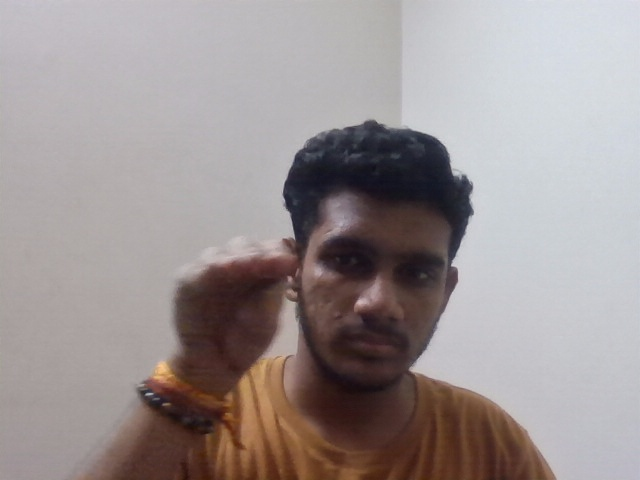no: (132, 231, 322, 385)
